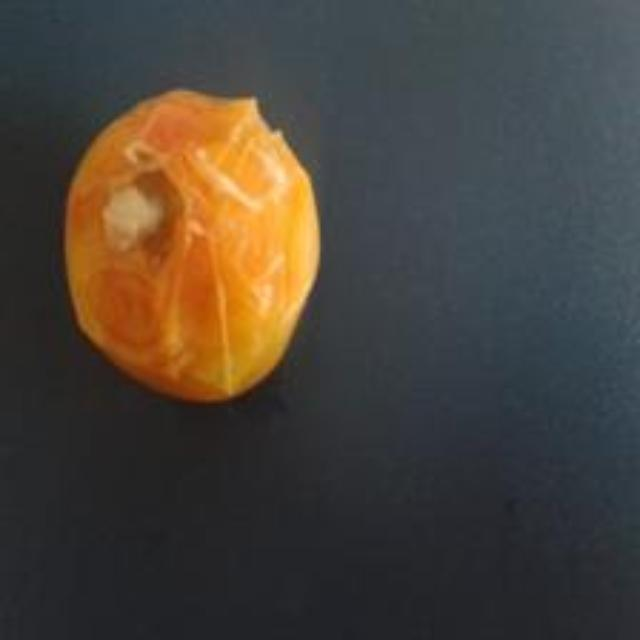defect: (62, 82, 329, 407)
